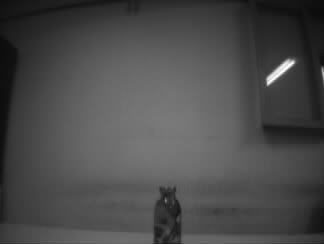Bottle: (153, 185, 182, 244)
